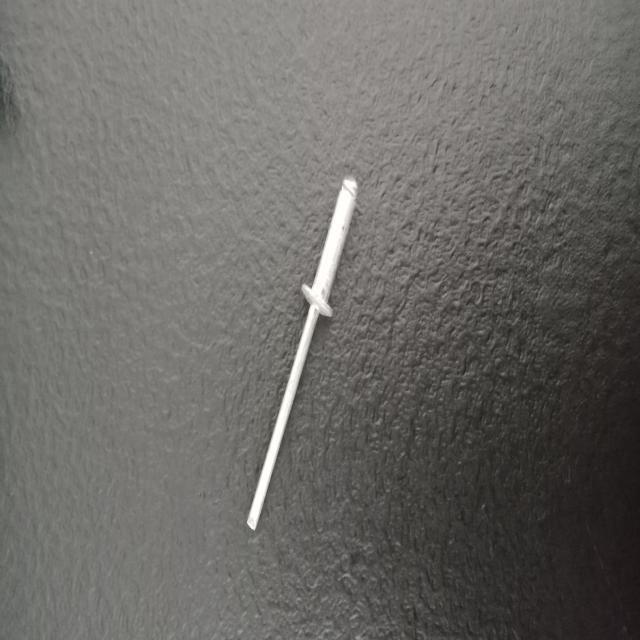rivet: (246, 176, 357, 531)
